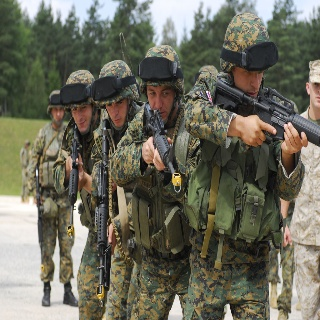rifle: (212, 77, 320, 149), (141, 100, 184, 195), (94, 117, 115, 308), (66, 124, 78, 238)
